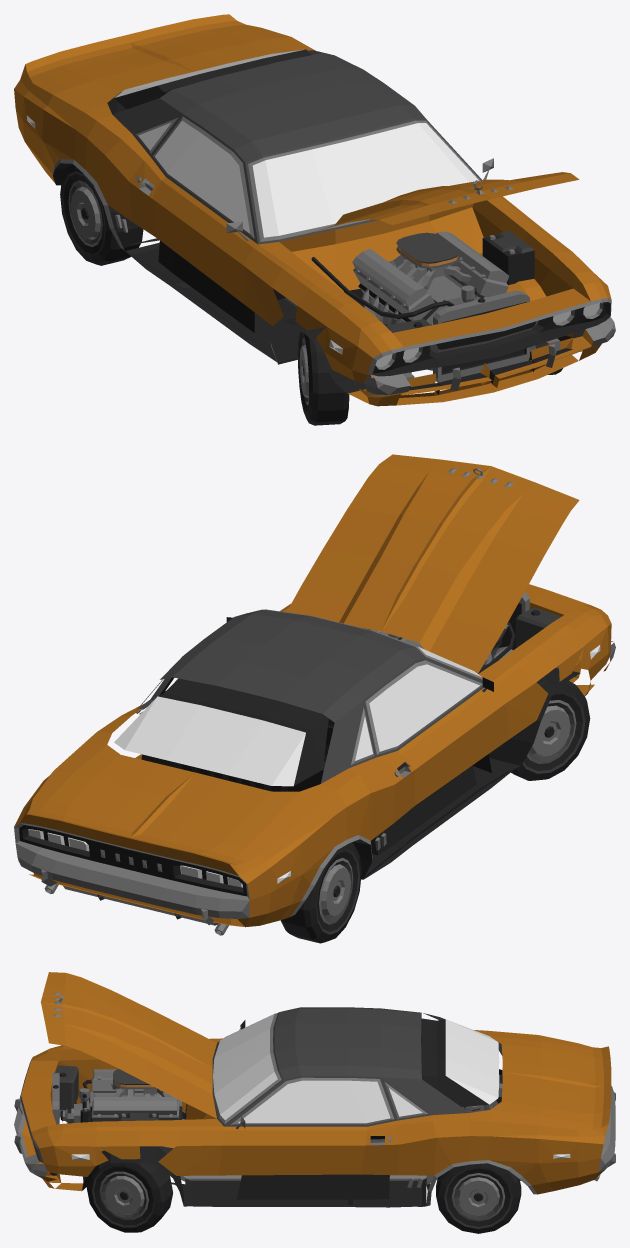
The model's file is r_1972-bursley-defiance.glb.
The picture shows the model from 3 angles, top to bottom: view 1: azimuth 30°, elevation 25°; view 2: azimuth 150°, elevation 25°; view 3: azimuth 270°, elevation 25°; orthographic projection. The views are drawn at different scales.
Parts seen in each view (by area): view 1: Body, Trunk, Engine, Engine_Details, Wheel RR, Hood, Wheel FR, Cables; view 2: Body, Hood, Trunk, Wheel RR, Wheel FR, Engine_Details, Chassis; view 3: Body, Hood, Trunk, Wheel FL, Wheel RL, Engine, Engine_Details, Chassis.
Part boxes in pixels (x1,y1,x2,y2): Body: (14,14,615,406); Trunk: (32,15,290,102); Engine: (352,231,509,370); Engine_Details: (386,231,534,382); Wheel RR: (60,163,143,265); Hood: (290,172,579,238); Wheel FR: (297,330,349,425); Cables: (311,257,454,318); Body: (14,584,615,927); Hood: (287,454,579,673); Trunk: (32,745,298,870); Wheel RR: (280,842,361,943); Wheel FR: (511,676,590,780); Engine_Details: (498,592,561,650); Chassis: (44,665,558,935); Body: (14,1007,615,1207); Hood: (41,972,216,1118); Trunk: (490,1036,611,1124); Wheel FL: (86,1162,172,1232); Wheel RL: (436,1163,521,1233); Engine: (60,1069,182,1153); Engine_Details: (52,1065,158,1124); Chassis: (59,1083,600,1184).
Bounding box in the file's own units: 2.01 × 1.72 × 4.86.
